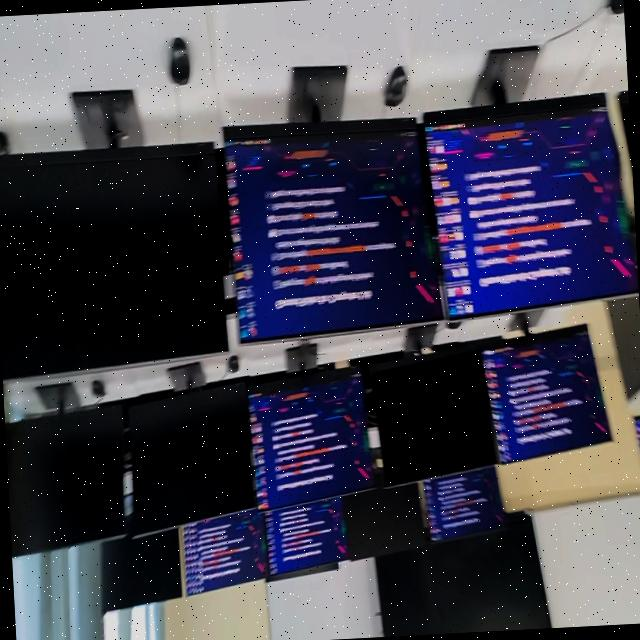Digital board: (376, 513, 551, 637)
Monitor: (0, 143, 228, 384), (225, 129, 443, 343), (424, 104, 638, 319), (129, 382, 256, 537), (5, 405, 126, 559), (481, 326, 611, 464), (370, 347, 498, 487), (249, 370, 375, 510), (183, 510, 268, 595), (102, 530, 182, 614), (266, 498, 348, 576), (342, 485, 426, 560), (423, 467, 506, 542)
Mouse: (170, 38, 190, 86), (384, 67, 407, 106), (92, 380, 106, 400), (607, 0, 624, 14), (227, 356, 239, 374), (0, 132, 8, 156)
